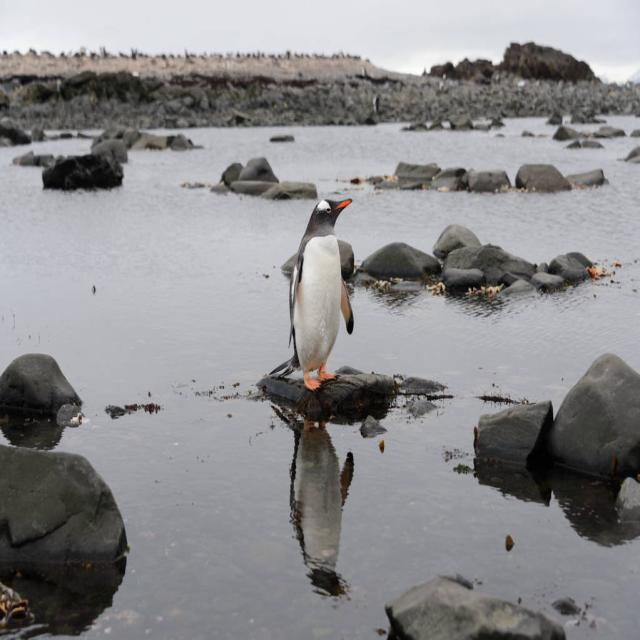Penguins: (284, 188, 360, 432)
